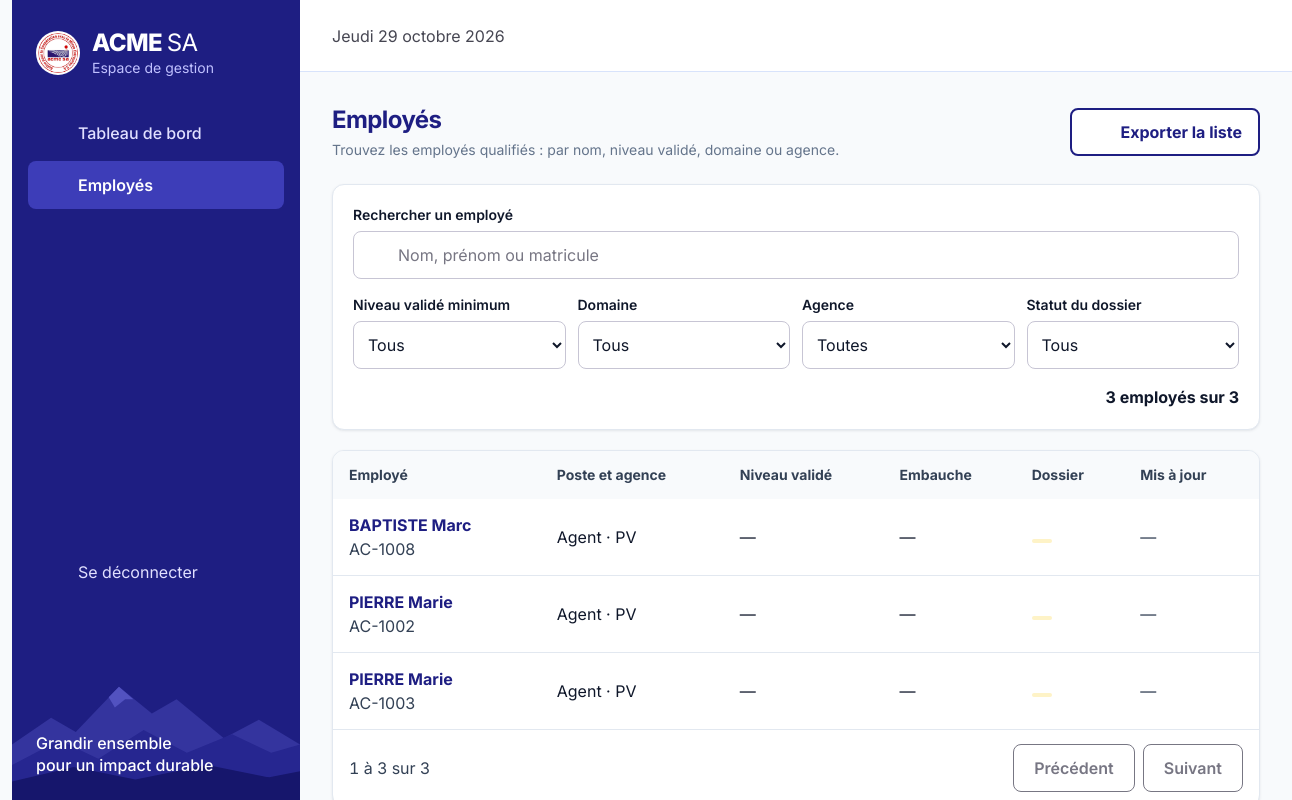
Test: EmployeeSearch (US-18) › Entrée lance la recherche sans attendre
Expected: the text "3 employés sur 3" is shown, [1106,385,1239,409]
Type "baptiste" into the search field labelled "Rechercher un employé" at (812, 255), box [398,235,1226,275]
Then press Enter
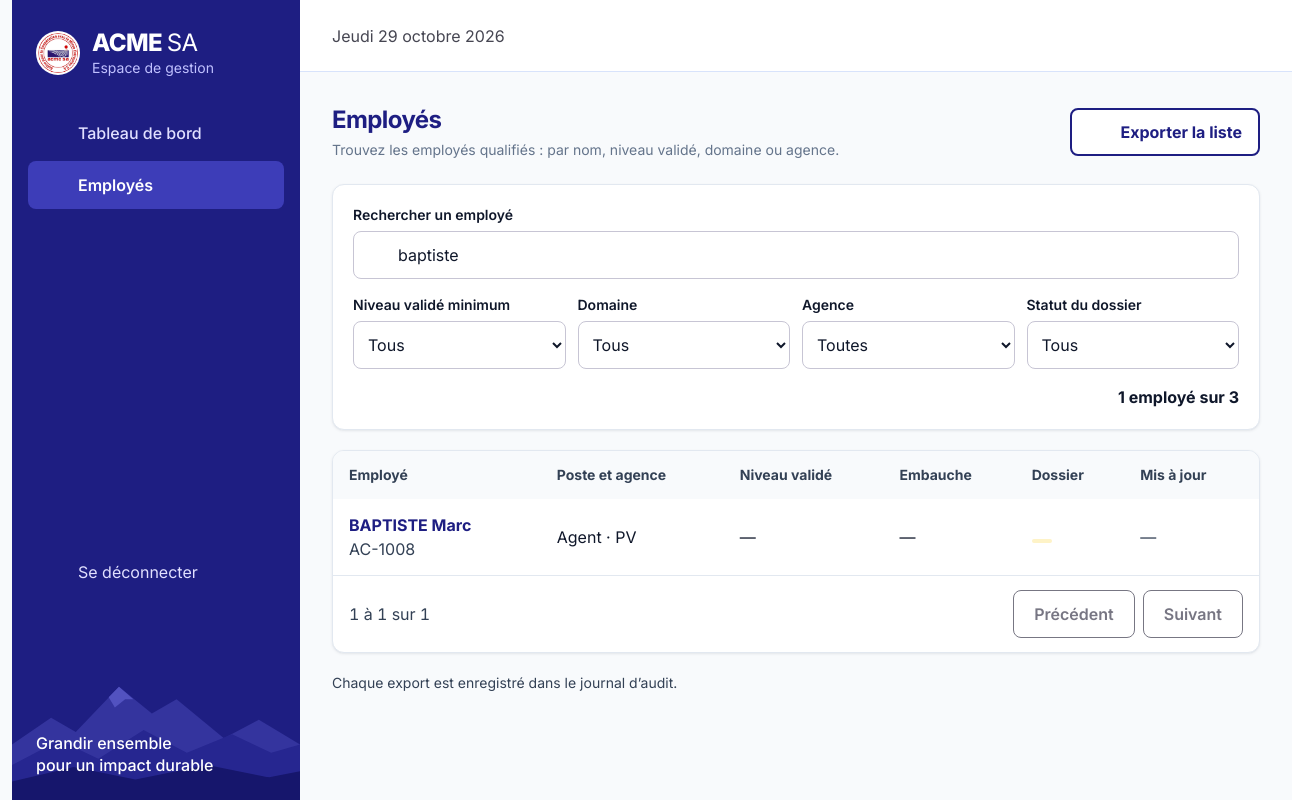
Expected: the text "1 employé sur 3" is shown, [1118,385,1239,409]
